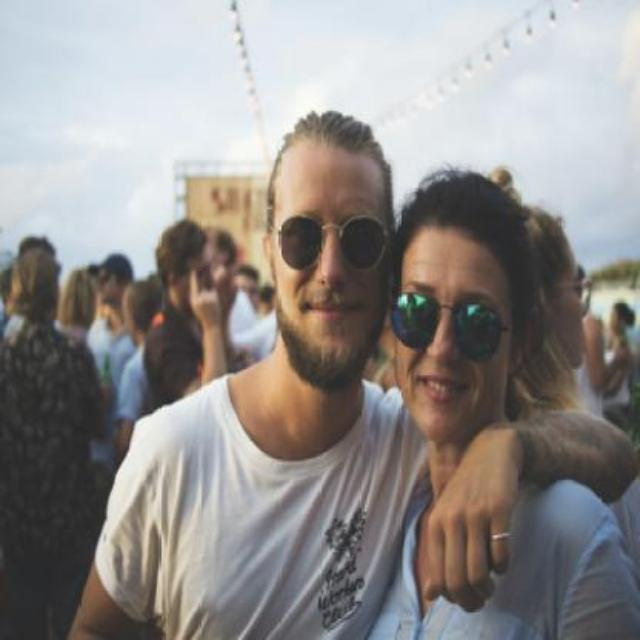glasses: (391, 289, 511, 361), (273, 216, 389, 268)
